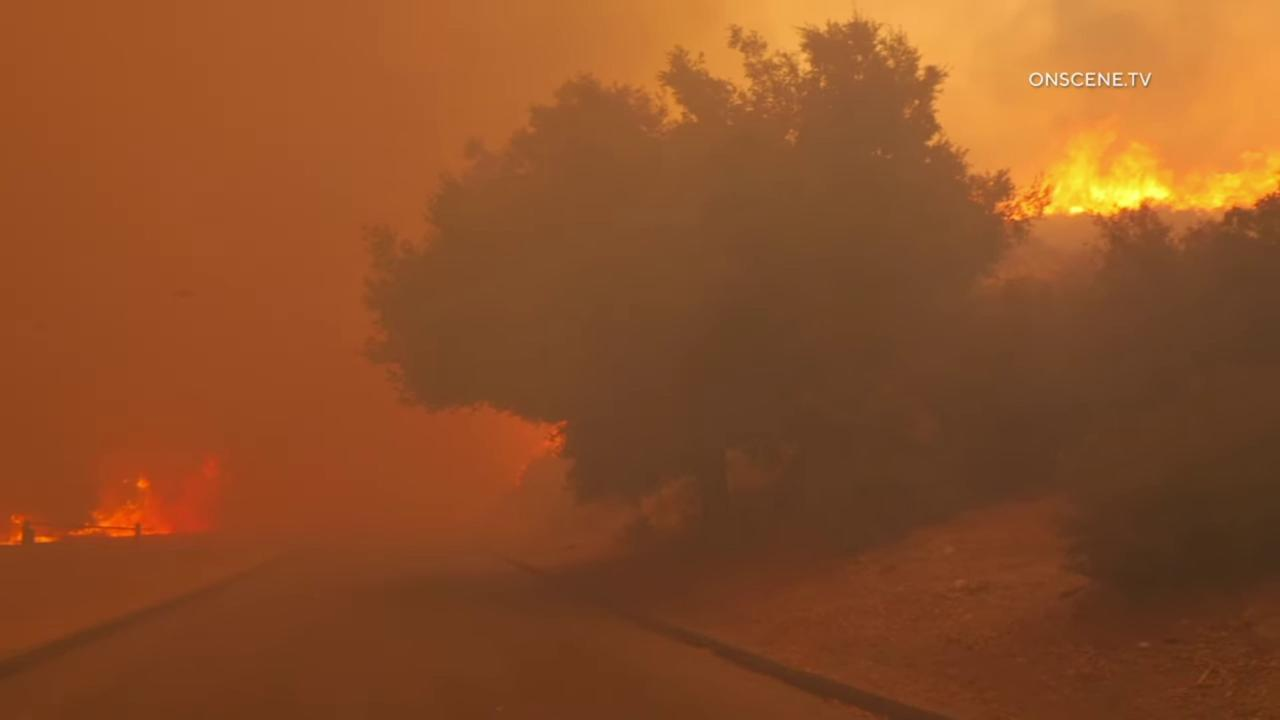fire: (999, 122, 1280, 226), (0, 447, 229, 551), (518, 417, 571, 490)
smoke: (0, 0, 1280, 720)
